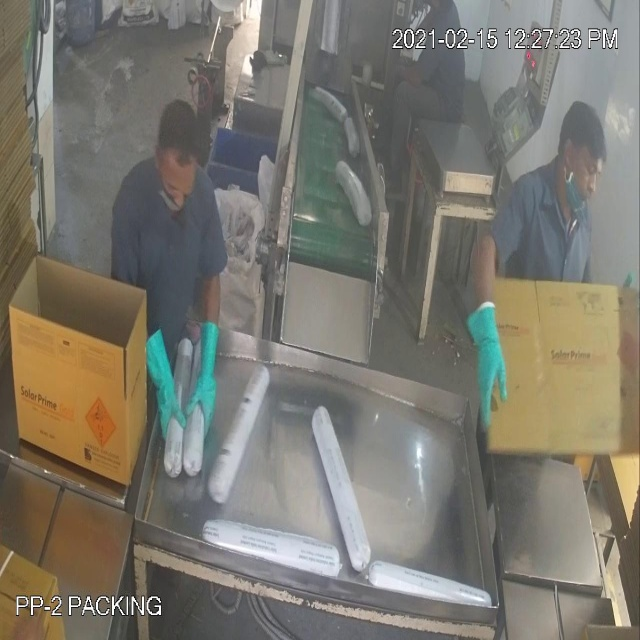Guantes: (181, 307, 230, 468), (134, 309, 187, 456), (464, 287, 514, 430)
